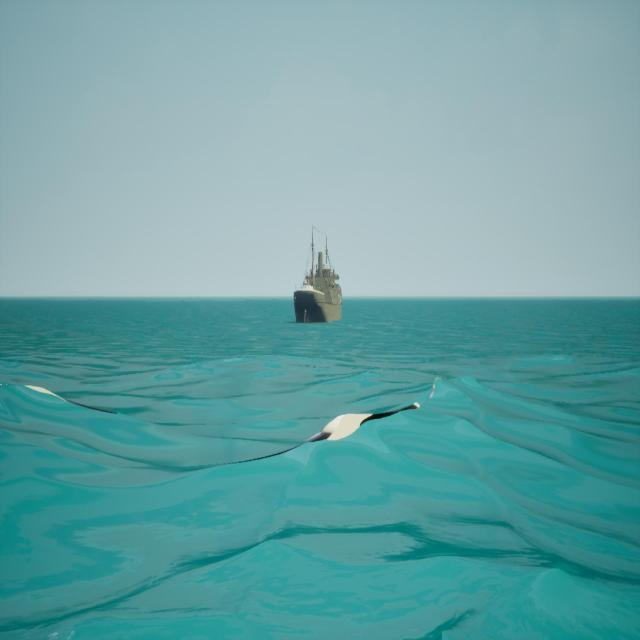fishing ship: (292, 229, 345, 324)
